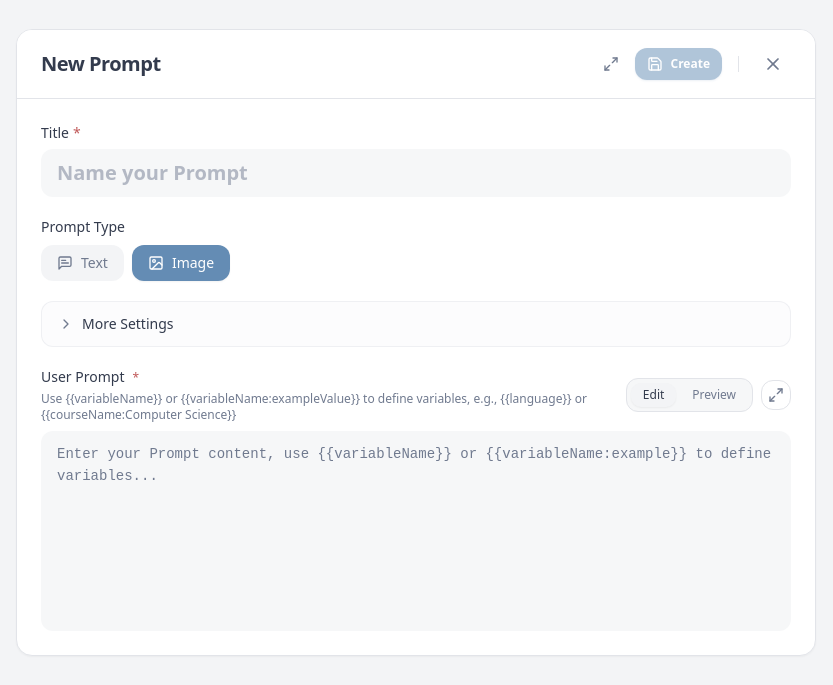
Test: Prompt modal structure › keeps create modal first screen focused on type and prompt content
The image size is (833, 685).
Expected: the text "Prompt Type" is shown, top-left (41, 216), bottom-right (125, 236)
Expected: the text "User Prompt" is shown, top-left (41, 366), bottom-right (124, 386)
Click the button "More Settings": (128, 323) top-left (42, 302), bottom-right (790, 346)
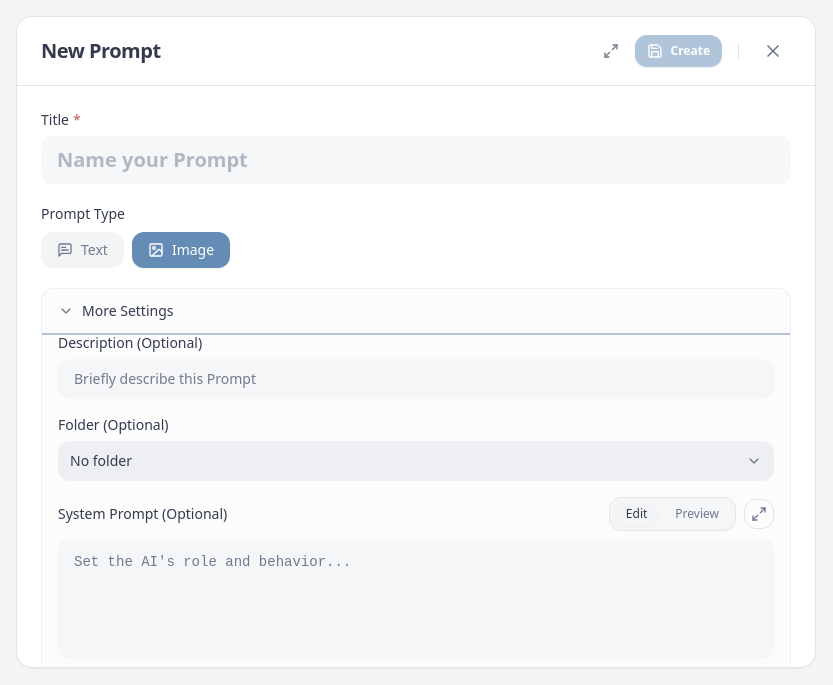
Expected: the button "More Settings" is shown, top-left (42, 289), bottom-right (790, 333)
Now the text "Description (Optional)" is shown, box top-left (58, 333), bottom-right (202, 352)
Now the text "System Prompt (Optional)" is shown, box top-left (58, 504), bottom-right (227, 524)
